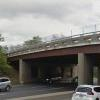Bridge: (9, 28, 100, 74)
